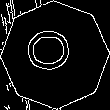O_E: (29, 32, 81, 78)
